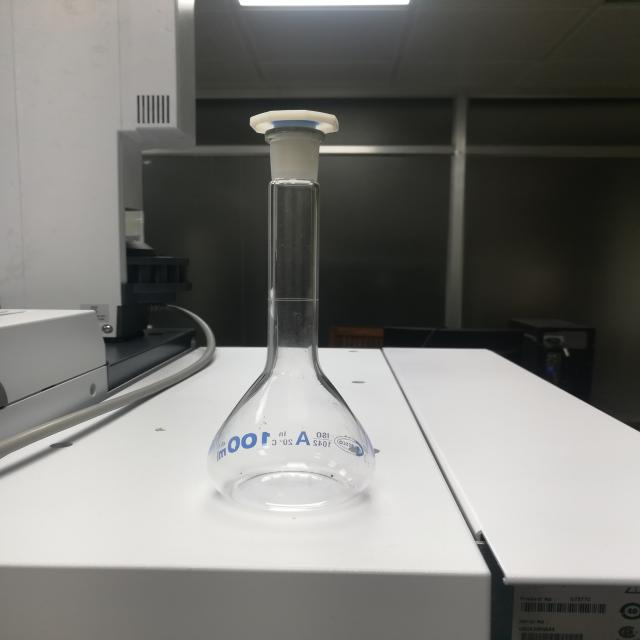Volumetric_Flask: (179, 71, 426, 537)
